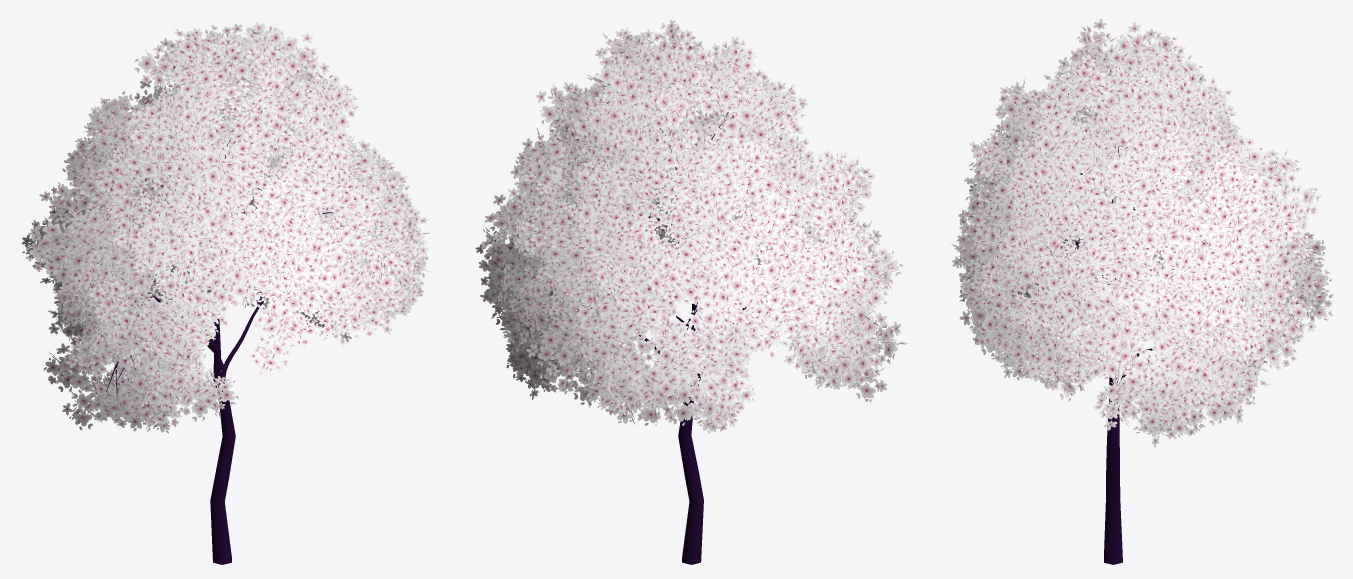
Rendered from Tree3.2.fbx.
3 renders of one model, left to right at view 1: azimuth 30°, elevation 25°; view 2: azimuth 150°, elevation 25°; view 3: azimuth 270°, elevation 25°, orthographic.
Parts seen in each view (by area): view 1: Leaves, Trunk; view 2: Leaves, Trunk; view 3: Leaves, Trunk.
Boxes of the visible parts, x1,y1,x2,y2 form: Leaves: (21, 22, 429, 433); Trunk: (90, 108, 332, 564); Leaves: (475, 19, 908, 433); Trunk: (635, 102, 879, 564); Leaves: (951, 19, 1333, 447); Trunk: (1048, 70, 1207, 564).
Size of the model in its own units: 5.43 by 7.48 by 5.03.
